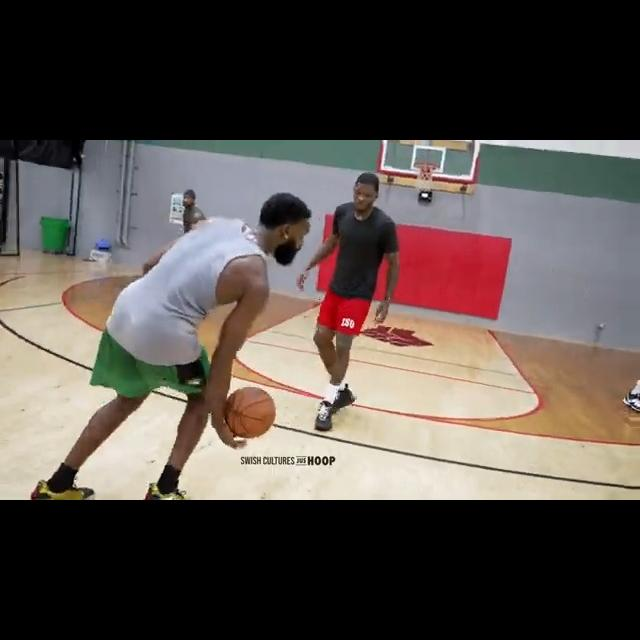basketball: (224, 386, 276, 439)
hoop: (414, 162, 439, 193)
person: (30, 178, 313, 499), (296, 169, 401, 432), (178, 187, 208, 251)
